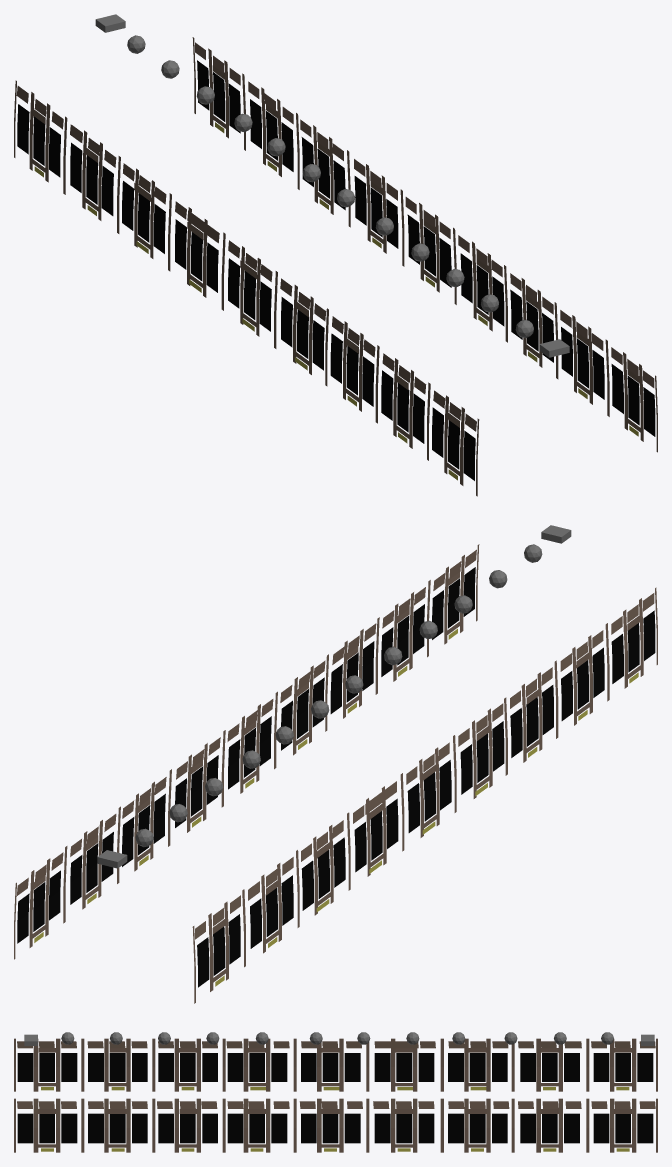
Rendered from lnwr-57ft-non-cor-sides-non-brake.dae.
3 renders of one model, top to bottom at view 1: azimuth 30°, elevation 25°; view 2: azimuth 150°, elevation 25°; view 3: azimuth 270°, elevation 25°, orthographic. The views are drawn at different scales.
Parts seen in each view (by area): view 1: no part large enough to name; view 2: no part large enough to name; view 3: Plane_1572, Plane_1450, Plane_1390, Plane_1356, Plane_1326, Plane_1568, Plane_1446, Plane_1360, Plane_1330, Plane_1480, Plane_1447, Plane_1221 (+92 smaller).
Boxes of the visible parts, box(x1,y1,x2,y2) form: Plane_1572: box(637, 1113, 653, 1143); Plane_1450: box(374, 1113, 390, 1143); Plane_1390: box(344, 1113, 360, 1143); Plane_1356: box(271, 1113, 287, 1143); Plane_1326: box(61, 1113, 77, 1143); Plane_1568: box(593, 1113, 609, 1143); Plane_1446: box(418, 1113, 434, 1143); Plane_1360: box(227, 1113, 243, 1143); Plane_1330: box(17, 1113, 33, 1143); Plane_1480: box(469, 1114, 485, 1143); Plane_1447: box(396, 1114, 412, 1143); Plane_1221: box(109, 1114, 125, 1143).
Size of the model in its own units: 2.21 by 9.85 by 1.49.
